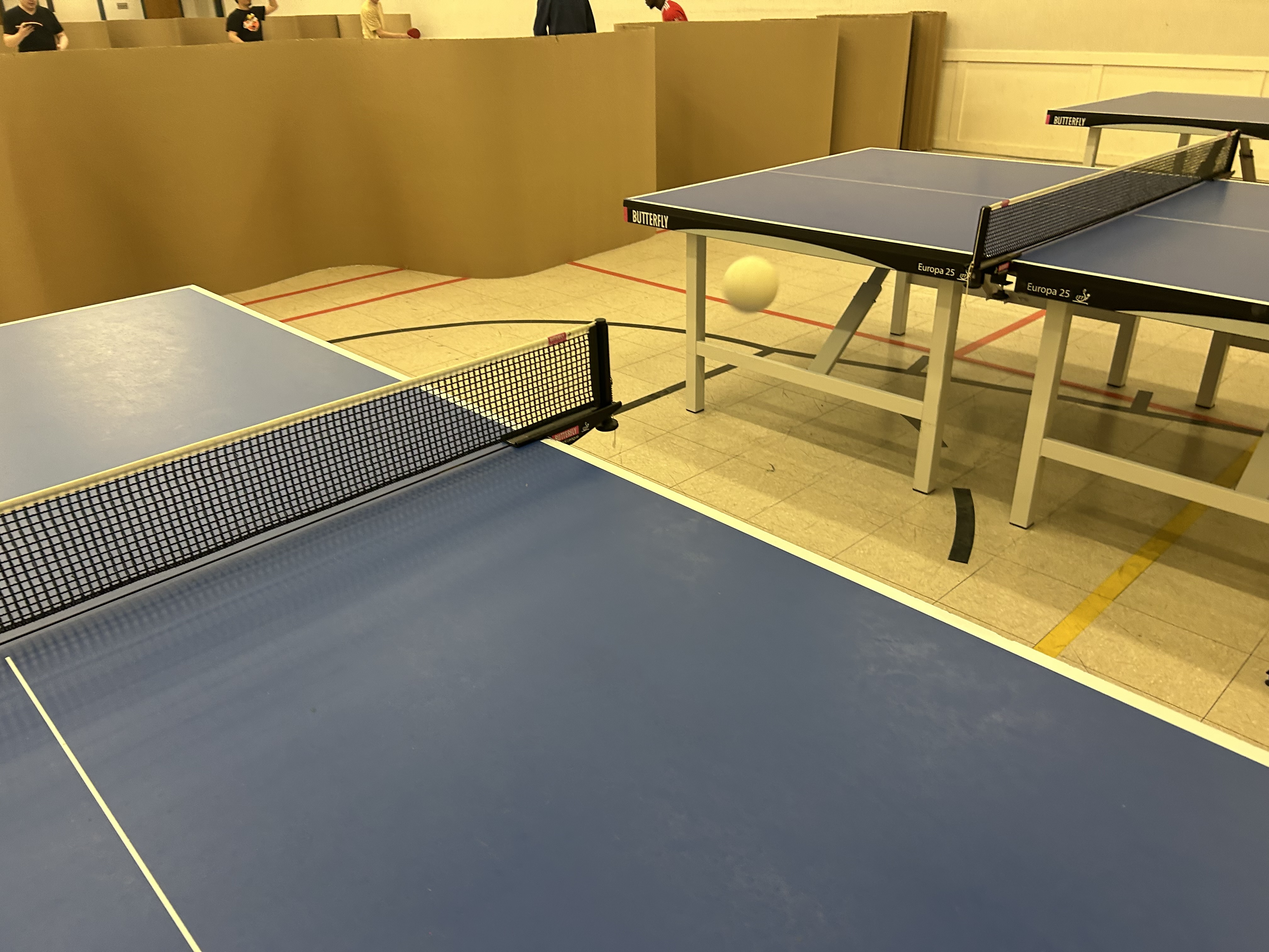Ball: (719, 235, 791, 326)
